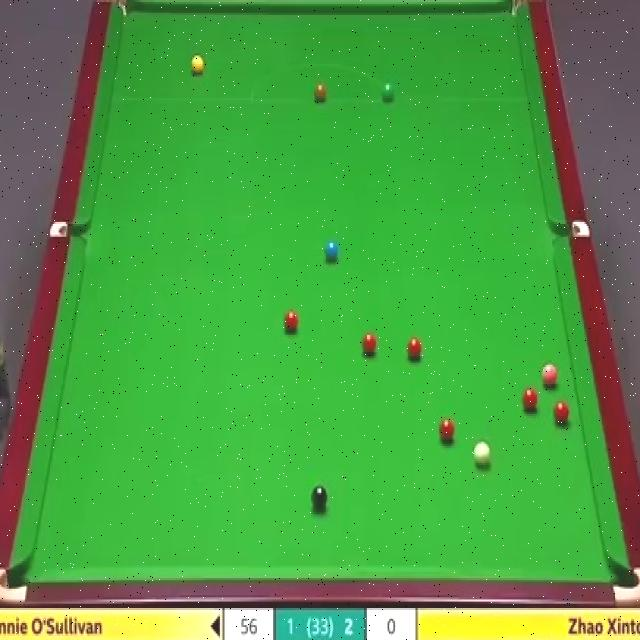black-ball: (310, 484, 329, 510)
blue-ball: (325, 240, 338, 263)
brown-ball: (314, 84, 327, 102)
green-ball: (382, 82, 394, 102)
pink-ball: (542, 361, 559, 389)
red-ball: (437, 417, 456, 444), (407, 334, 423, 360), (554, 398, 569, 424), (361, 332, 376, 357), (522, 388, 538, 411), (284, 307, 299, 331)
white-ball: (474, 437, 491, 466)
yellow-ball: (190, 55, 206, 77)
